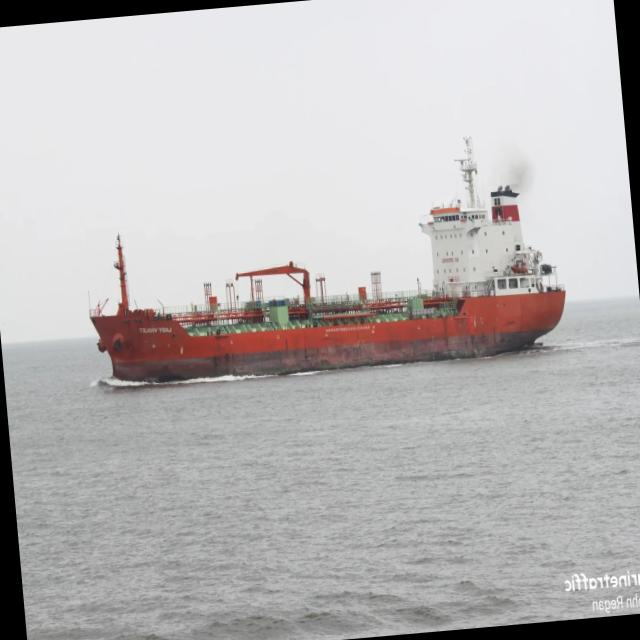Tanker: (90, 138, 565, 381)
